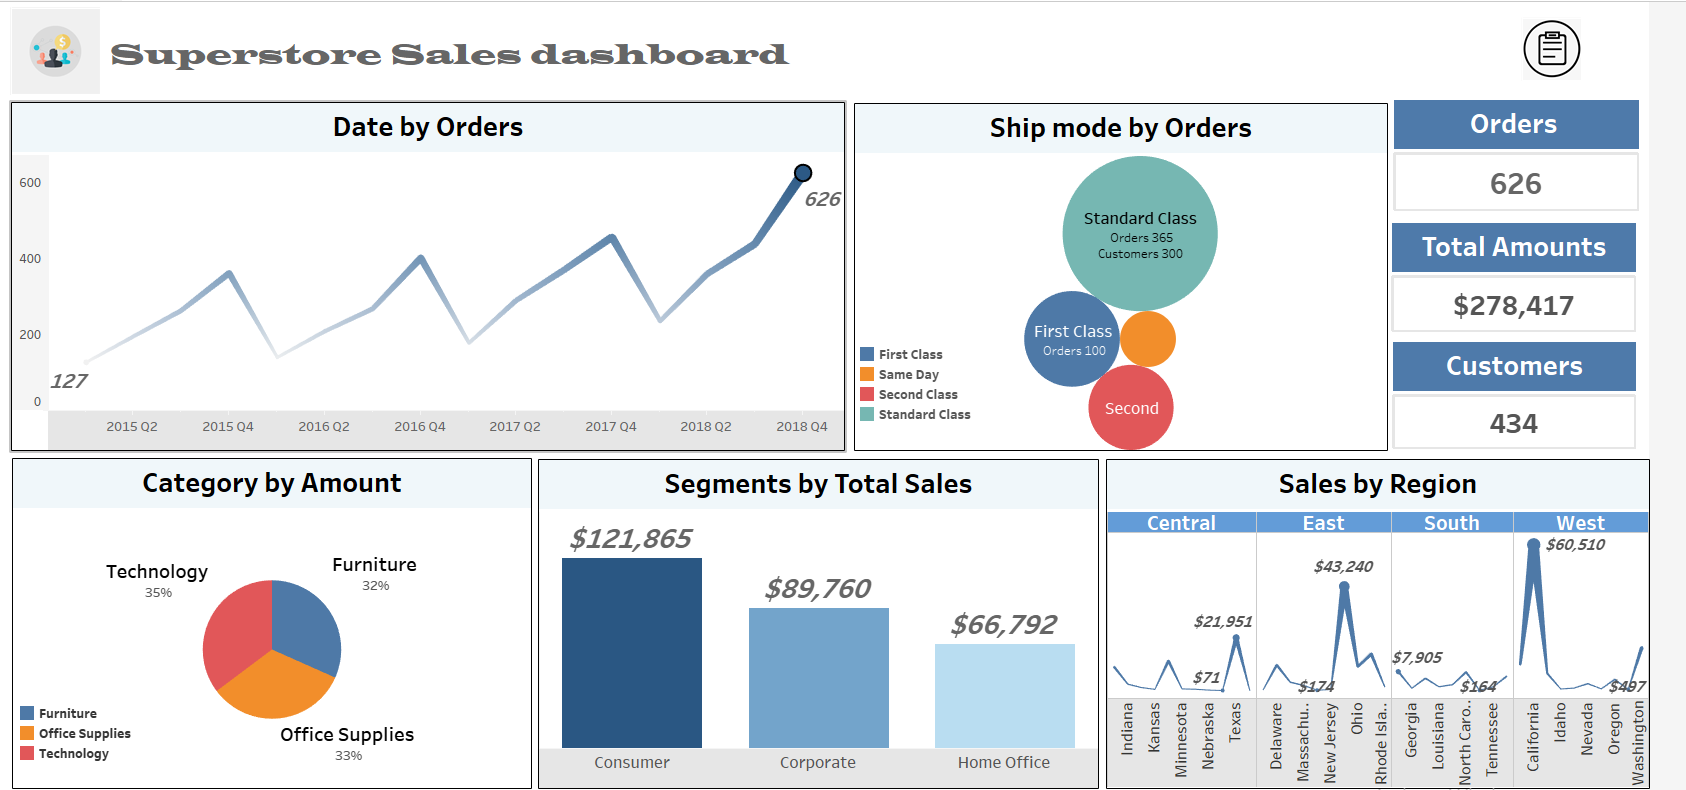

Layout of this report page (visuals, bound fields, positions):
{"tool":"tableau","page":{"name":"Home","canvas":[1650,800],"ordinal":1},"visuals":[{"type":"image","param":"Image/download.png","box":[11,5,91,90]},{"type":"text","box":[108,9,701,86]},{"type":"dashboard-object","box":[1477,15,151,64]},{"type":"worksheet","title":"Order","mark":"Automatic","box":[1394,98,246,111]},{"type":"worksheet","title":"Order date by ordeers","mark":"Automatic","rows":["Calculation_706220720876535808"],"cols":["Order_Date"],"box":[12,100,834,349]},{"type":"worksheet","title":"Ship Mode by orders","mark":"Circle","box":[855,101,534,348]},{"type":"worksheet","title":"Total amounts","mark":"Automatic","box":[1392,221,245,109]},{"type":"legend","title":"Ship Mode by orders","param":"[federated.0pxvccc07nabix1a91gdz13xlhqt].[none:Ship_Mode:nk]","box":[858,323,162,122]},{"type":"worksheet","title":"Customers","mark":"Automatic","box":[1393,340,244,107]},{"type":"worksheet","title":"Category by Total Amount","mark":"Pie","box":[13,456,520,331]},{"type":"worksheet","title":"Segments","mark":"Bar","rows":["Calculation_706220720876855297"],"cols":["Segment"],"box":[539,457,561,330]},{"type":"worksheet","title":"Sales by Reigon","mark":"Line","rows":["Calculation_706220720876855297"],"cols":["Region","State"],"box":[1107,457,544,330]},{"type":"legend","title":"Category by Total Amount","param":"[federated.0pxvccc07nabix1a91gdz13xlhqt].[none:Category:nk]","box":[18,701,145,82]}]}

Visuals, with their boxes on the page's 1650x800 design canvas (x1, y1, x2, y2). These are canvas units, not pixel positions in the 1686x790 screenshot, which may show the page scaled, cropped or inside an application window:
image: x1=11 y1=5 x2=102 y2=95
text: x1=108 y1=9 x2=809 y2=95
dashboard-object: x1=1477 y1=15 x2=1628 y2=79
"Order" worksheet: x1=1394 y1=98 x2=1640 y2=209
"Order date by ordeers" worksheet: x1=12 y1=100 x2=846 y2=449
"Ship Mode by orders" worksheet (Circle marks): x1=855 y1=101 x2=1389 y2=449
"Total amounts" worksheet: x1=1392 y1=221 x2=1637 y2=330
"Ship Mode by orders" legend: x1=858 y1=323 x2=1020 y2=445
"Customers" worksheet: x1=1393 y1=340 x2=1637 y2=447
"Category by Total Amount" worksheet (Pie marks): x1=13 y1=456 x2=533 y2=787
"Segments" worksheet (Bar marks): x1=539 y1=457 x2=1100 y2=787
"Sales by Reigon" worksheet (Line marks): x1=1107 y1=457 x2=1651 y2=787
"Category by Total Amount" legend: x1=18 y1=701 x2=163 y2=783
